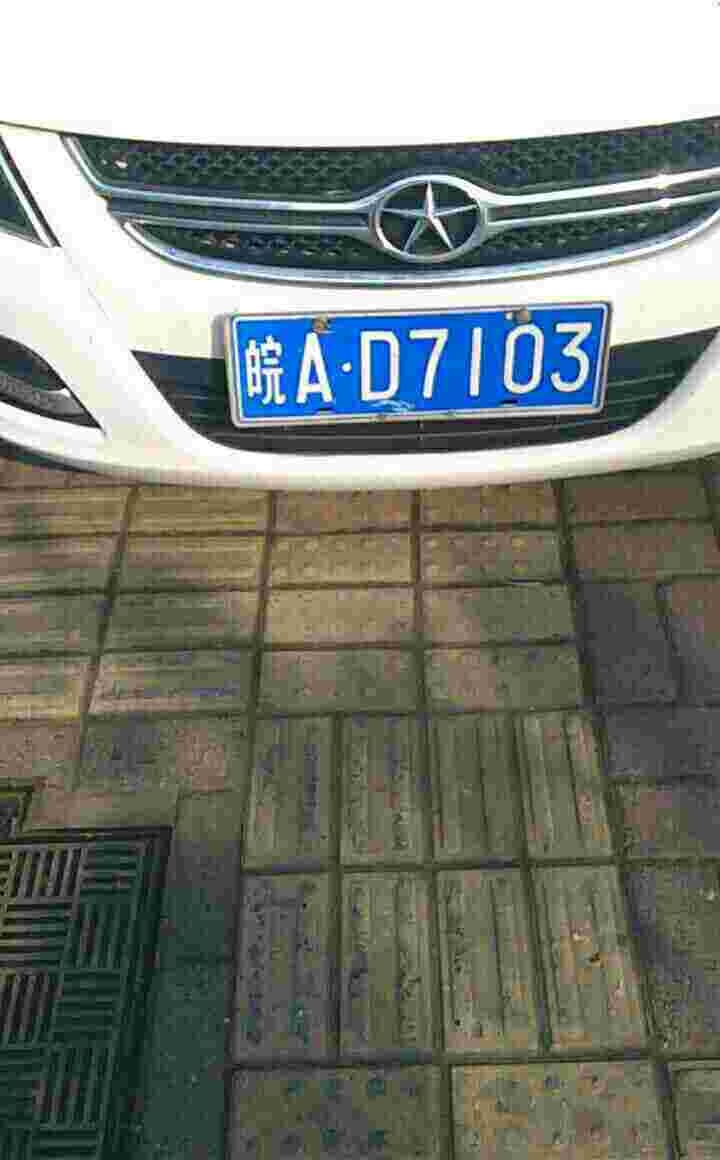license_plate: (238, 303, 611, 425)
